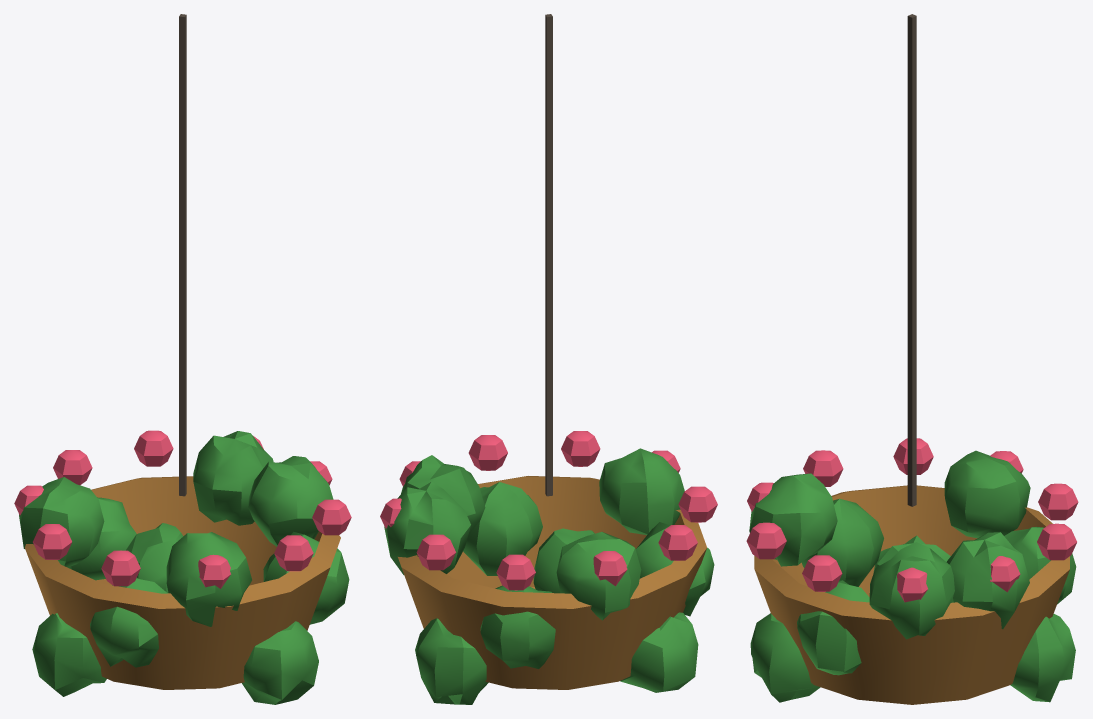
Rendered from HangOrchard.fbx.
3 views of the same model, side by side, from view 1: azimuth 30°, elevation 25°; view 2: azimuth 150°, elevation 25°; view 3: azimuth 270°, elevation 25° (orthographic). The views are drawn at different scales.
Visible parts, largest first — view 1: HangOrchard; view 2: HangOrchard; view 3: HangOrchard.
Part boxes in pixels (x1=…): HangOrchard: x1=14, y1=14, x2=351, y2=704; HangOrchard: x1=380, y1=14, x2=717, y2=704; HangOrchard: x1=746, y1=14, x2=1078, y2=704.
Size of the model in its own units: 379 by 820 by 369.
